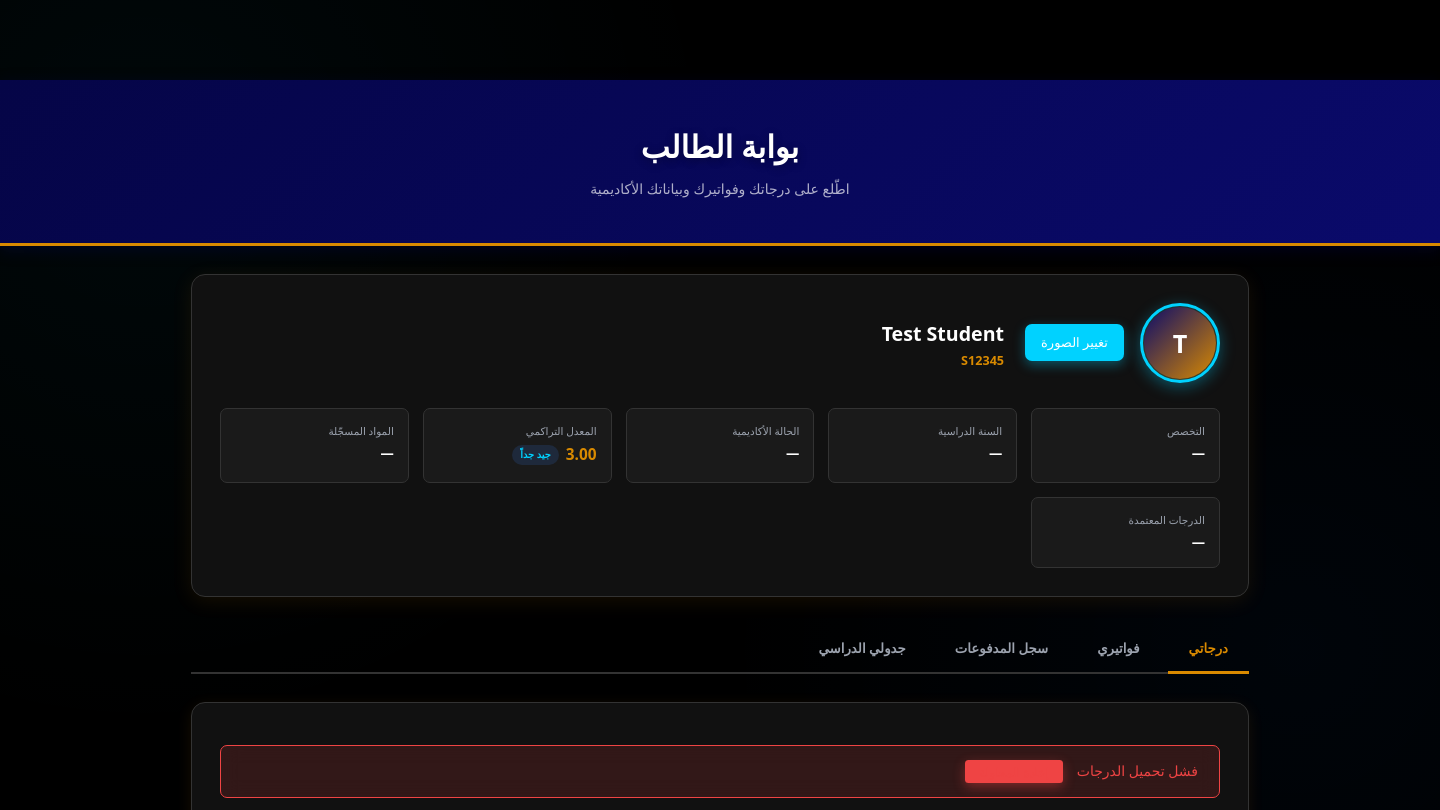
Test: Task 2.2: Invoices Tab Preservation › Property 2.2.2: Invoice table displays all columns correctly
Expected: the heading "Test Student" is shown, 882,318 -> 1004,349
// Click on Invoices tab
Click the button "فواتيري" at (1118, 650), box 1076,625 -> 1161,674
(page scrolled)
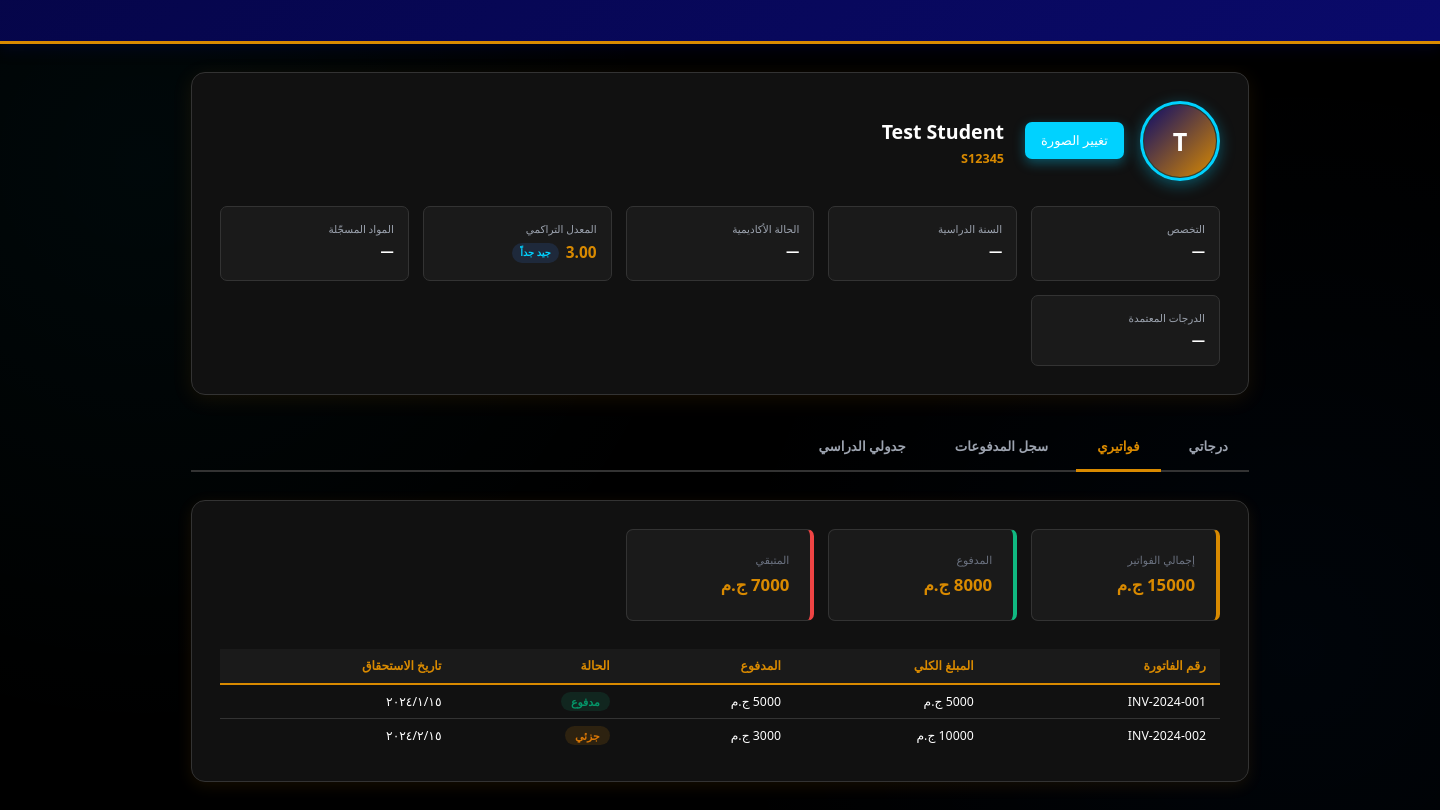
Now the column heading "رقم الفاتورة" is shown, box 988,649 -> 1220,684
Now the column heading "المبلغ الكلي" is shown, box 795,649 -> 988,684
Now the column heading "الحالة" is shown, box 456,649 -> 624,684
